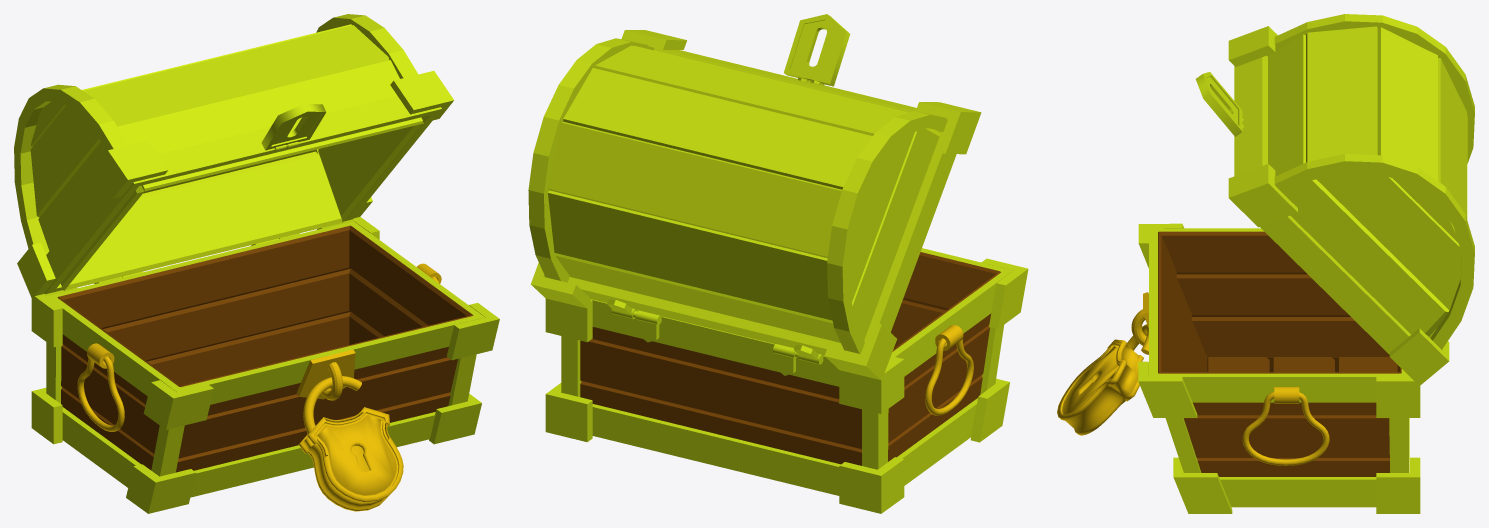
File: MMI 2 COFFRE.AB_v07.glb
3 renders of one model, left to right at view 1: azimuth 30°, elevation 25°; view 2: azimuth 150°, elevation 25°; view 3: azimuth 270°, elevation 25°, orthographic. The views are drawn at different scales.
Parts seen in each view (by area): view 1: top sides.004, COFFRE BAS, Cylinder.004, Point.003, BARRES, Cube.003, Cube.006, Rectangle.001, Cube.004, Cube.007, Cube, Cube.002 (+3 smaller); view 2: top sides.004, COFFRE BAS, Cylinder.004, BARRES, Rectangle.001, Cube.002, Cube, Cube.005, Cube.003, Cube.001, Cube.006, BézierCircle.003; view 3: top sides.004, COFFRE BAS, Cylinder.004, Point.003, BARRES, Cube.004, Cube.007, Cube.005, Cube.001, BézierCircle.001, Rectangle.001, Cube.003.
Boxes of the visible parts, x1,y1,x2,y2 form: top sides.004: (14, 14, 454, 298); COFFRE BAS: (57, 225, 473, 472); Cylinder.004: (46, 221, 484, 497); Point.003: (298, 407, 403, 511); BARRES: (46, 342, 476, 476); Cube.003: (143, 380, 213, 429); Cube.006: (126, 464, 195, 513); Rectangle.001: (261, 103, 326, 151); Cube.004: (446, 303, 499, 360); Cube.007: (429, 394, 481, 444); Cube: (31, 287, 76, 347); Cube.002: (31, 387, 62, 444); top sides.004: (528, 30, 981, 379); COFFRE BAS: (580, 252, 1000, 465); Cylinder.004: (591, 248, 1013, 495); BARRES: (561, 325, 1003, 469); Rectangle.001: (784, 14, 850, 86); Cube.002: (839, 457, 904, 513); Cube: (839, 357, 904, 413); Cube.005: (545, 383, 592, 442); Cube.003: (981, 258, 1028, 328); Cube.001: (545, 298, 592, 342); Cube.006: (970, 378, 1009, 442); BézierCircle.003: (925, 338, 973, 415); top sides.004: (1228, 14, 1474, 385); COFFRE BAS: (1158, 231, 1401, 476); Cylinder.004: (1149, 228, 1409, 507); Point.003: (1057, 339, 1143, 435); BARRES: (1165, 418, 1408, 472); Cube.004: (1138, 361, 1197, 417); Cube.007: (1173, 457, 1232, 513); Cube.005: (1376, 457, 1420, 513); Cube.001: (1376, 377, 1420, 417); BézierCircle.001: (1242, 392, 1329, 465); Rectangle.001: (1195, 72, 1243, 136); Cube.003: (1138, 223, 1183, 268).
Bounding box in the file's own units: 4.58 × 4.68 × 4.9.
